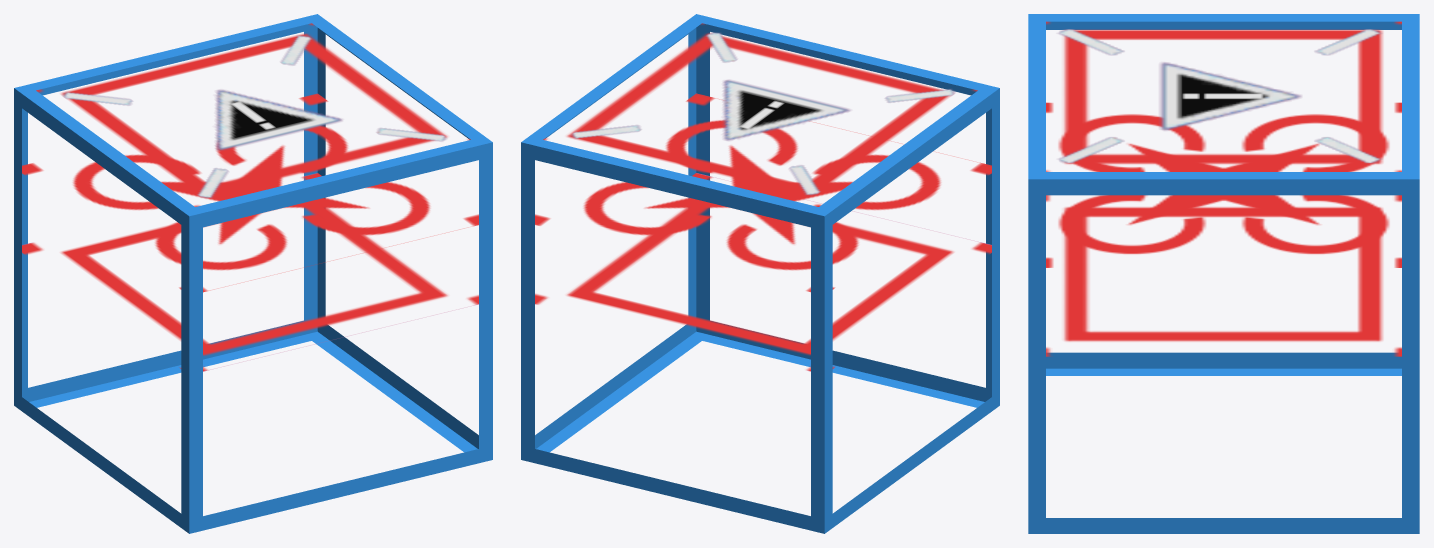
The model's file is effect.glb.
3 renders of one model, left to right at view 1: azimuth 30°, elevation 25°; view 2: azimuth 150°, elevation 25°; view 3: azimuth 270°, elevation 25°, orthographic. The views are drawn at different scales.
Parts seen in each view (by area): view 1: end_box, start_fly, start_box; view 2: end_box, start_fly, start_box; view 3: end_box, start_fly, start_box.
Boxes of the visible parts, x1=… form: end_box: x1=14, y1=14, x2=492, y2=533; start_fly: x1=22, y1=23, x2=478, y2=371; start_box: x1=63, y1=36, x2=445, y2=197; end_box: x1=521, y1=14, x2=999, y2=533; start_fly: x1=535, y1=23, x2=991, y2=371; start_box: x1=572, y1=33, x2=954, y2=194; end_box: x1=1028, y1=14, x2=1419, y2=533; start_fly: x1=1046, y1=21, x2=1401, y2=356; start_box: x1=1059, y1=29, x2=1379, y2=162.
Bounding box in the file's own units: 1 × 1 × 1.
Materials: 1 (1 with a texture image).
